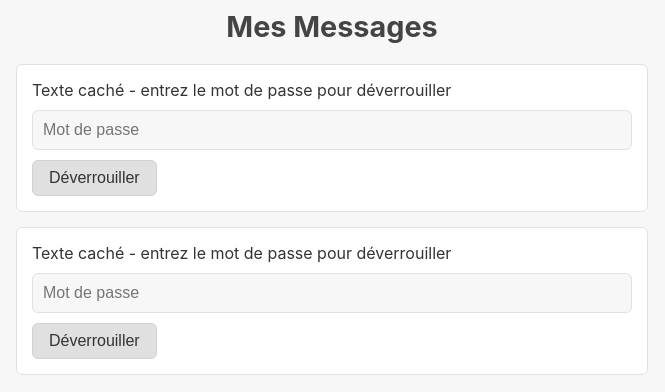
Scenario: Messages Component › decrypts message with correct password
Step 1. Type "password1" into the 1st password field with placeholder "Mot de passe" → (332, 130), box 32,110 -> 632,150
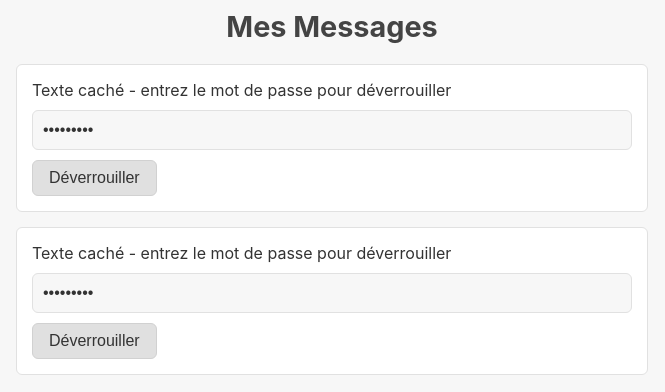
Step 2. Click the 1st button "Déverrouiller" → (94, 178), box 32,160 -> 157,196
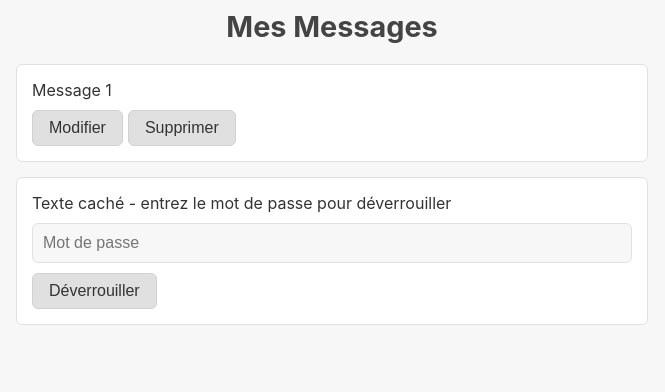
Now the text "Message 1" is shown, box 32,80 -> 112,100
